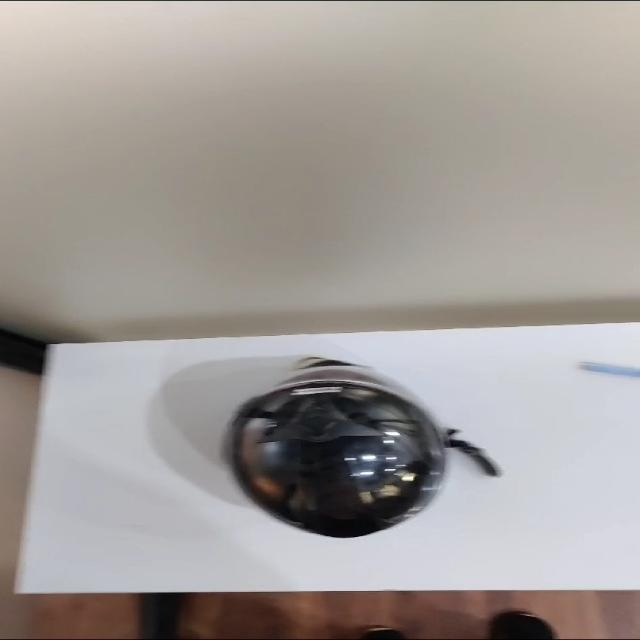helmet: (227, 358, 498, 538)
